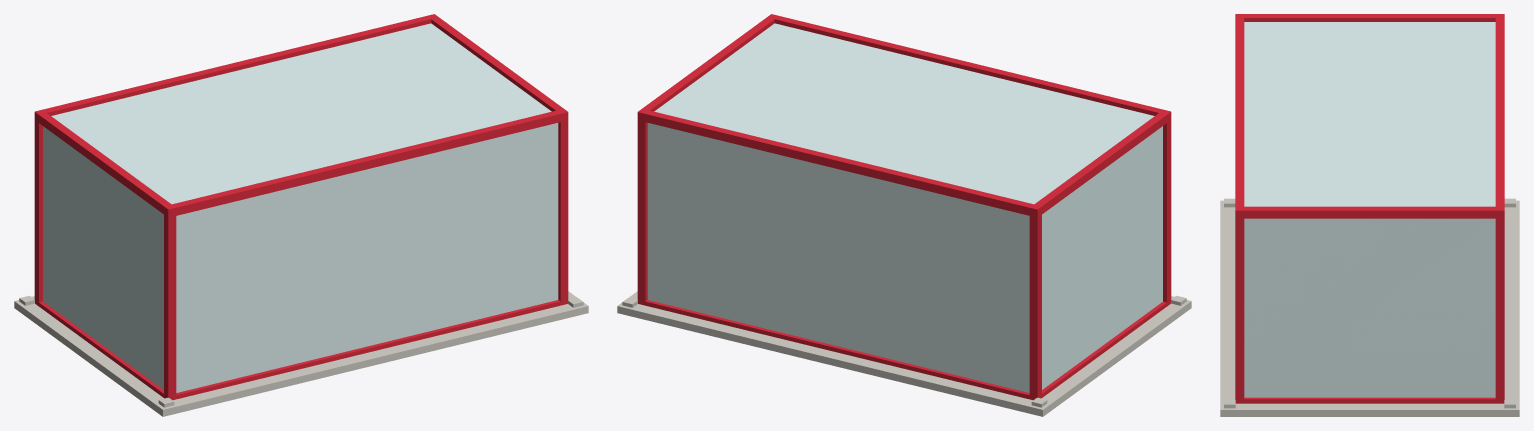
File: bulldozer-udirdlagatai.glb
The picture shows the model from 3 angles, left to right: view 1: azimuth 30°, elevation 25°; view 2: azimuth 150°, elevation 25°; view 3: azimuth 270°, elevation 25°; orthographic projection.
Size of the model in its own units: 0.38 by 0.1695 by 0.23.
